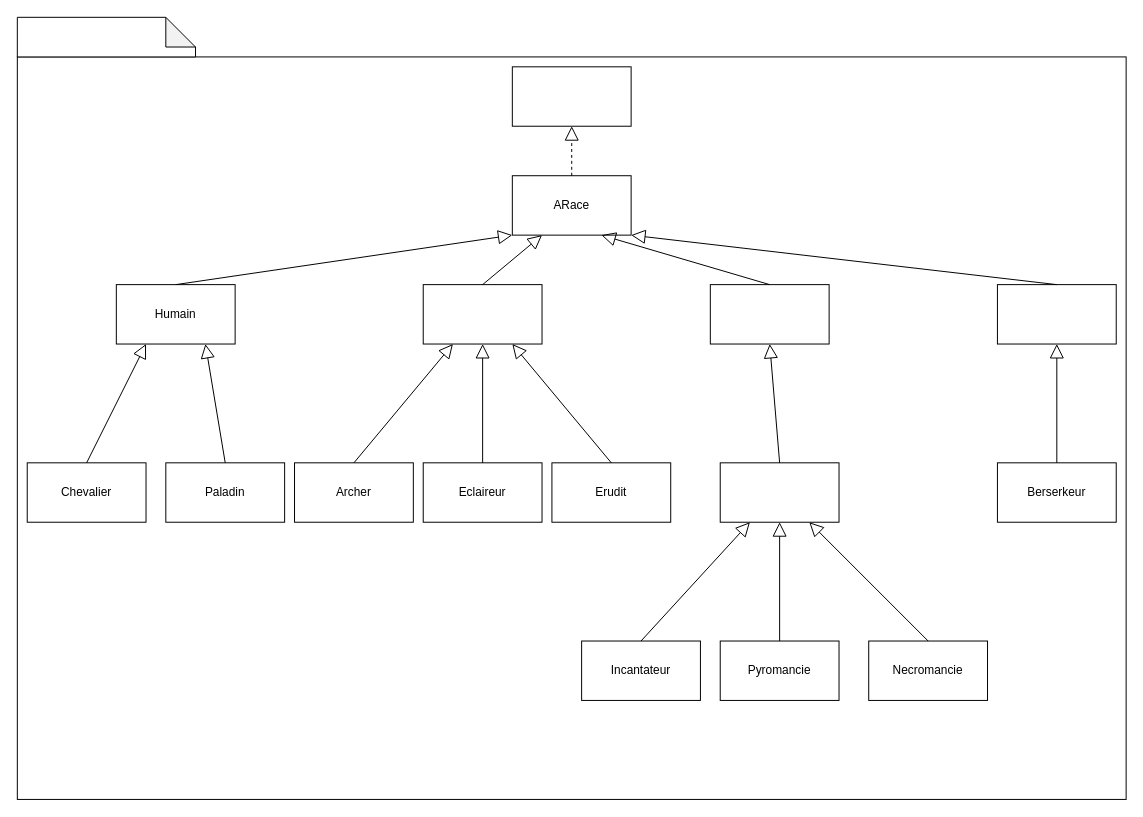
Image size: 1143x817. Some labels were removed from this diagram. The shapes that lost their labels are listed below. From the top down, each one's centre as x and y in pixels, then its label:
At (106,36): "Donjon&Dragon".
At (571,96): "IRace".
At (482,314): "Elfe".
At (769,314): "ElfeNoire".
At (1056,314): "Nain".
At (779,492): "Mage".
